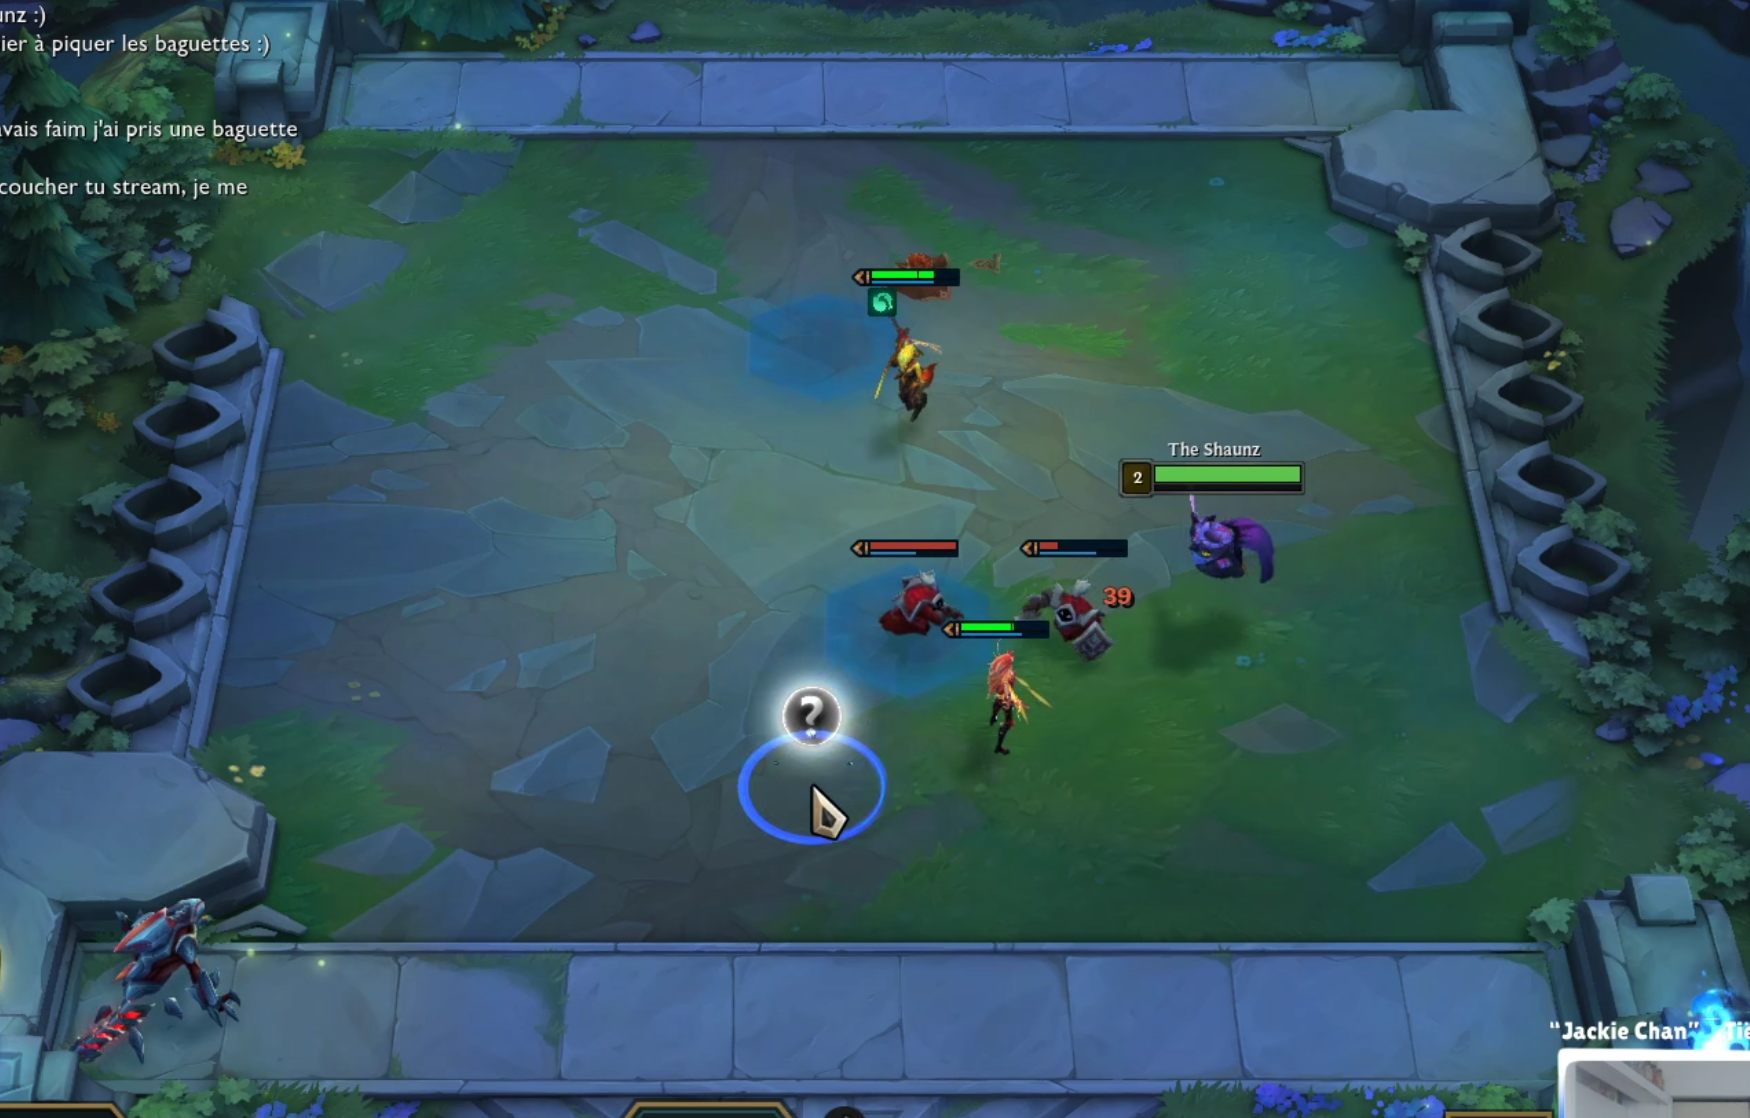gray orb: (778, 681, 844, 756)
